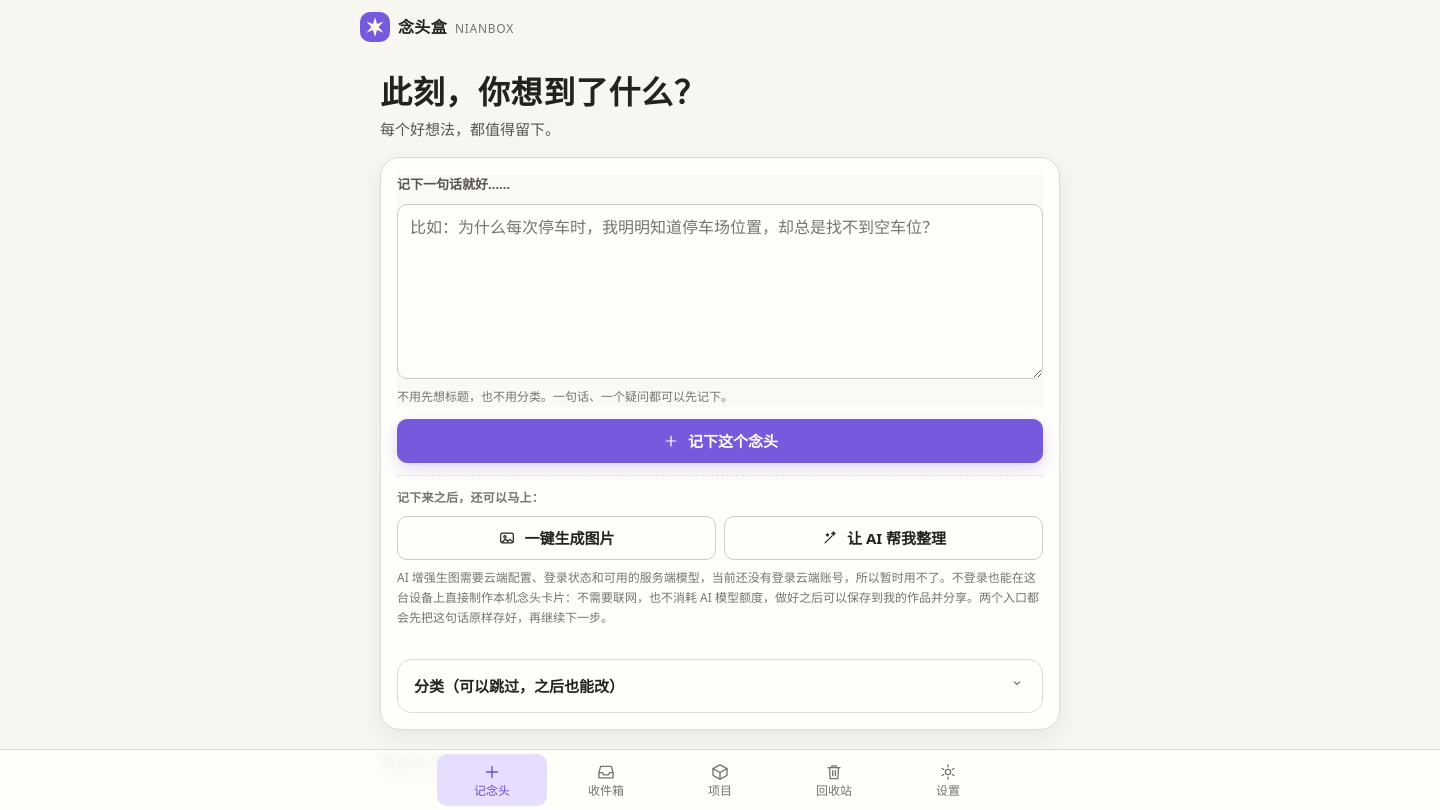
Test case: 首页：随手记 › 空内容不会被保存
Expected: the text box labelled "记下一句话就好……" is shown, left=397, top=204, right=1043, bottom=379
Click the button "记下这个念头" at coordinates (720, 441), box left=397, top=419, right=1043, bottom=463
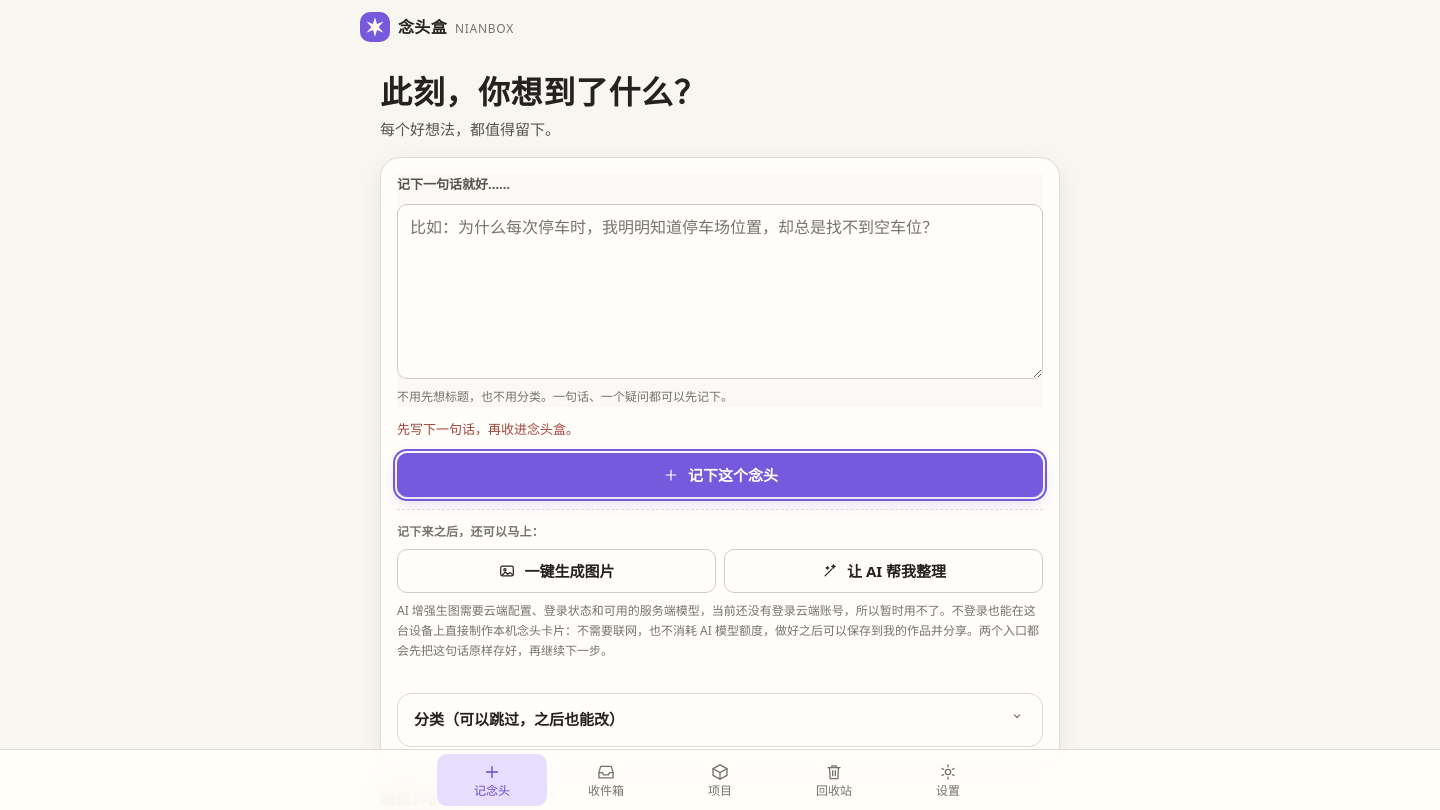
Expected: the message reads "先写下一句话，再收进念头盒。", left=397, top=420, right=579, bottom=438
